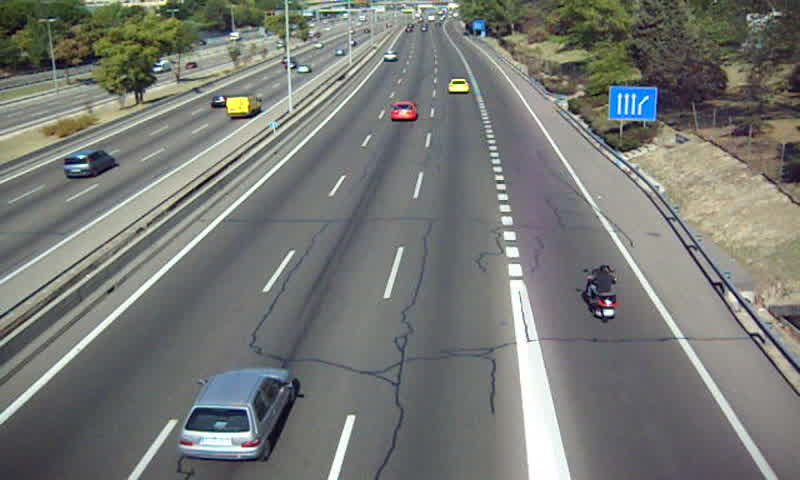car: (180, 369, 297, 459), (388, 100, 418, 122), (448, 79, 470, 96), (383, 51, 398, 62)
motorcycle: (584, 265, 619, 321)
